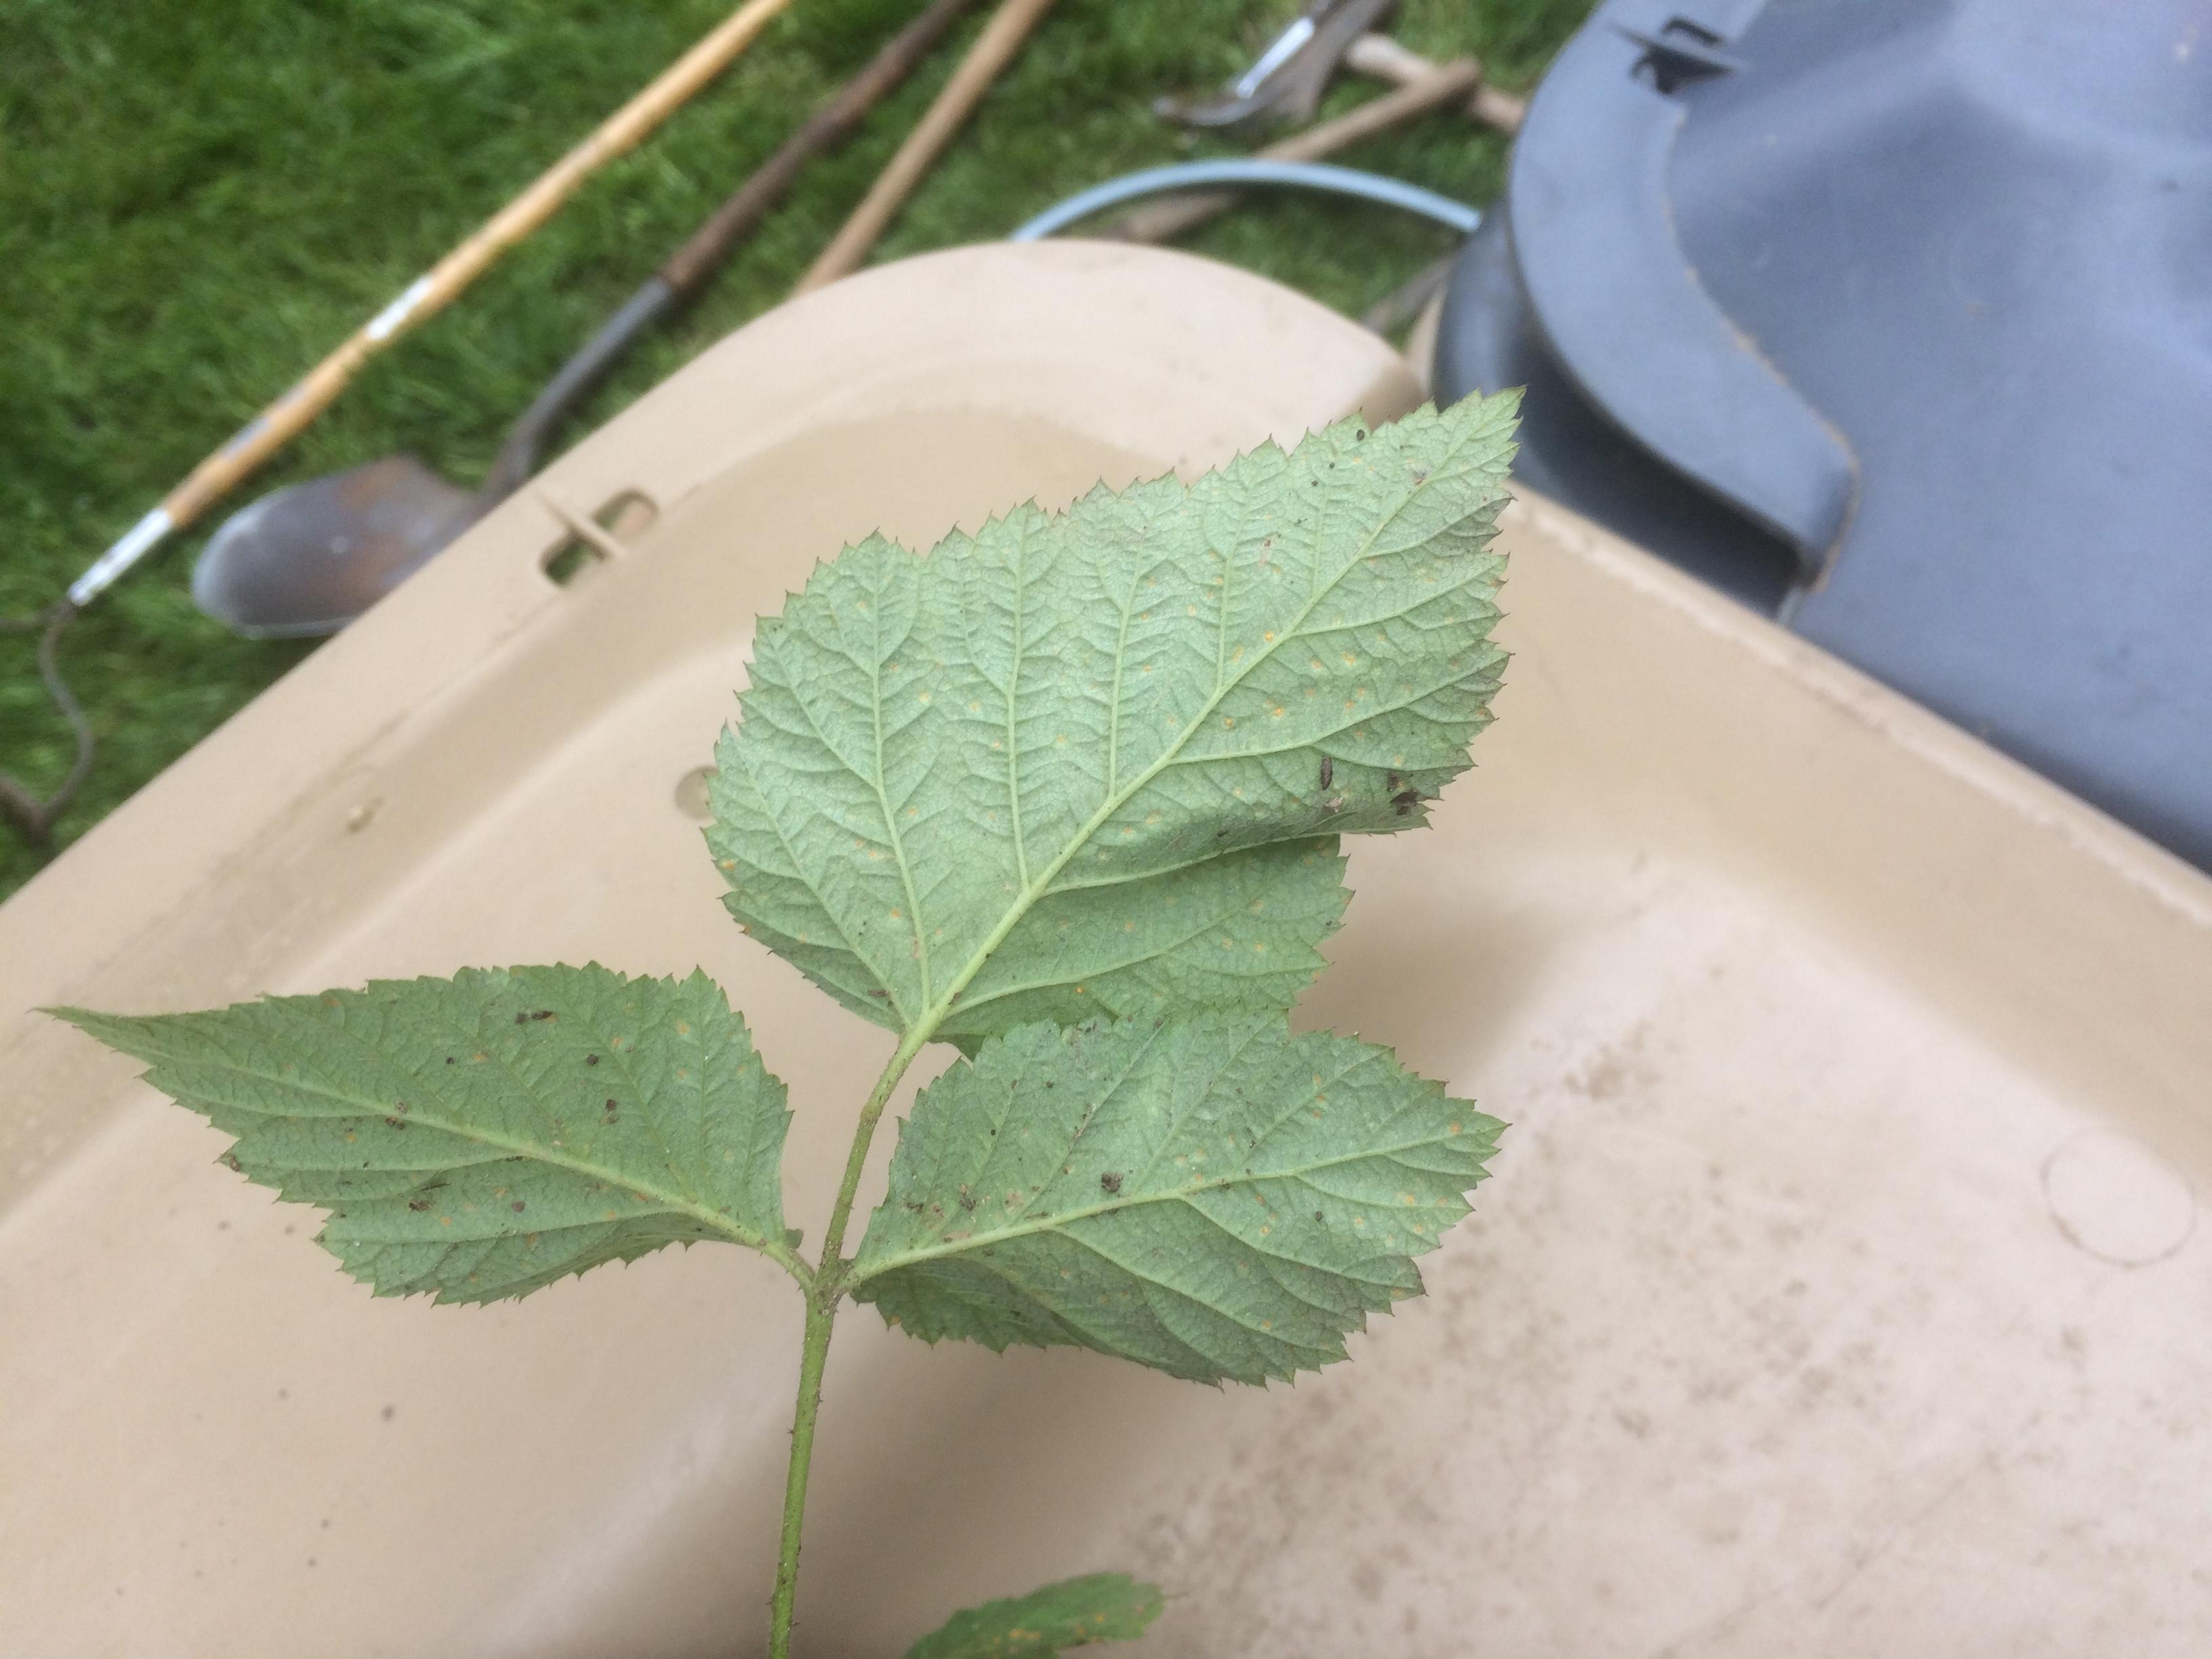Raspberry leaf: (691, 378, 1536, 1082), (24, 964, 794, 1338), (874, 1016, 1510, 1382)
